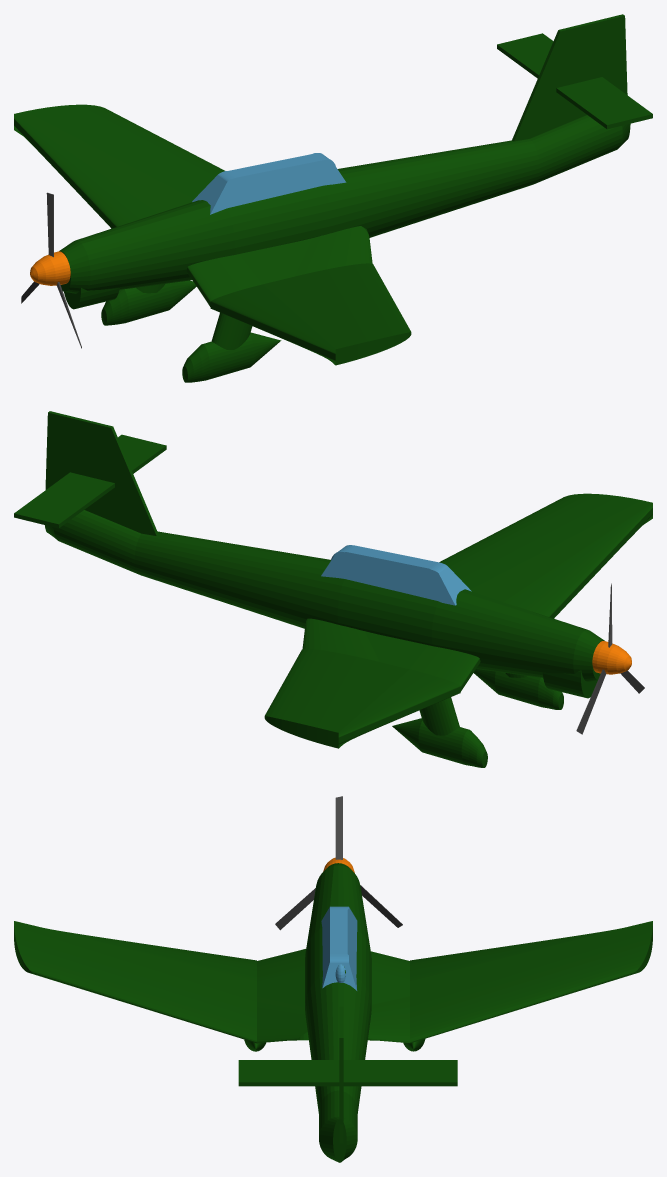
File: STUKA.fbx
3 renders of one model, top to bottom at view 1: azimuth 30°, elevation 25°; view 2: azimuth 150°, elevation 25°; view 3: azimuth 270°, elevation 25°, orthographic. The views are drawn at different scales.
Parts seen in each view (by area): view 1: Cylinder.010; view 2: Cylinder.010; view 3: Cylinder.010.
Boxes of the visible parts, <box> form: Cylinder.010: <box>14,14,652,382</box>; Cylinder.010: <box>14,411,652,767</box>; Cylinder.010: <box>14,796,652,1162</box>.
Size of the model in its own units: 1240 by 438 by 1155.
